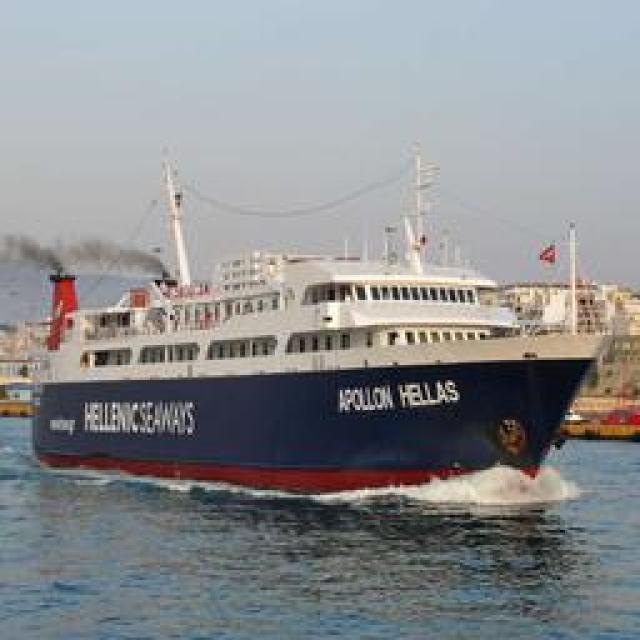CIV_Ship: (28, 158, 610, 504)
